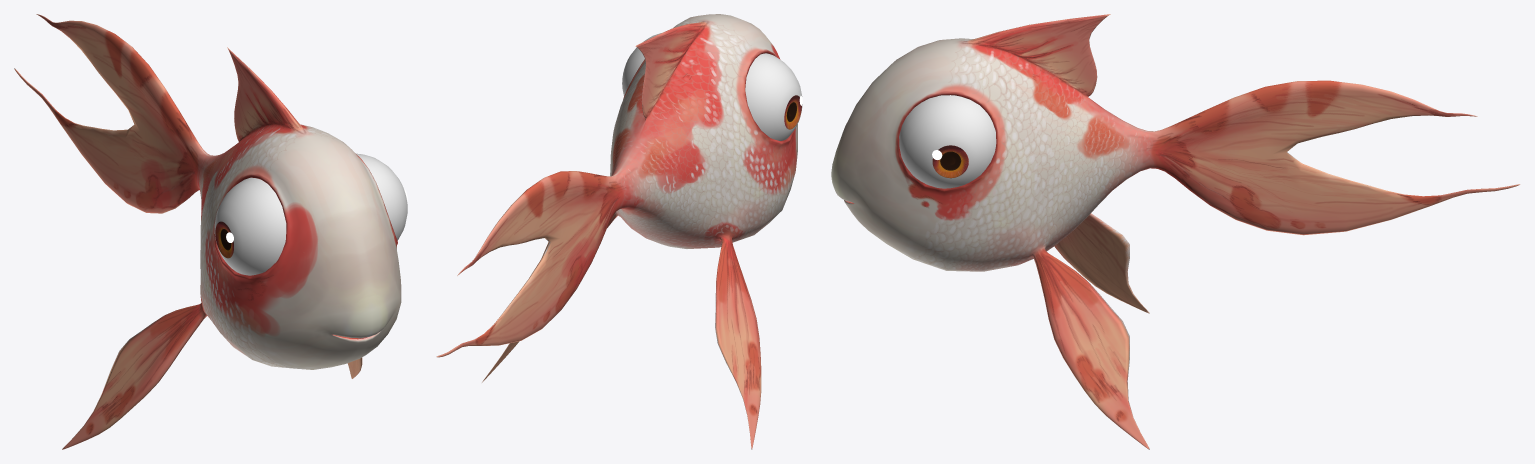
The model's file is fish.glb.
3 renders of one model, left to right at view 1: azimuth 30°, elevation 25°; view 2: azimuth 150°, elevation 25°; view 3: azimuth 270°, elevation 25°, orthographic. The views are drawn at different scales.
Parts seen in each view (by area): view 1: Fish_Body, Left_Eye.002, Left_Eye; view 2: Fish_Body, Left_Eye.002, Left_Eye; view 3: Fish_Body, Left_Eye.
Part boxes in pixels (x1,y1,x2,y2): Fish_Body: (14, 14, 401, 449); Left_Eye.002: (214, 177, 286, 275); Left_Eye: (356, 153, 407, 240); Fish_Body: (436, 14, 797, 449); Left_Eye.002: (745, 53, 802, 140); Left_Eye: (622, 33, 661, 96); Fish_Body: (831, 14, 1520, 449); Left_Eye: (899, 95, 996, 188).
Size of what is drawn, in the model's own units: 700 by 882 by 1498.
2 materials, 1 textured.
